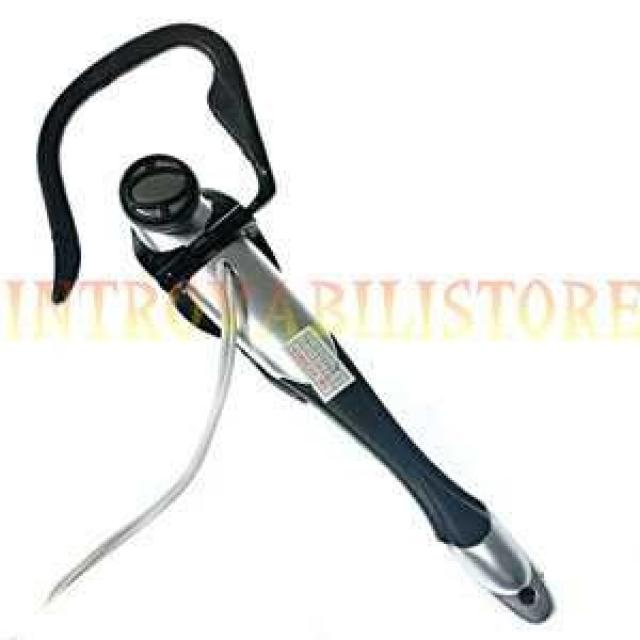microphone: (248, 302, 562, 630)
